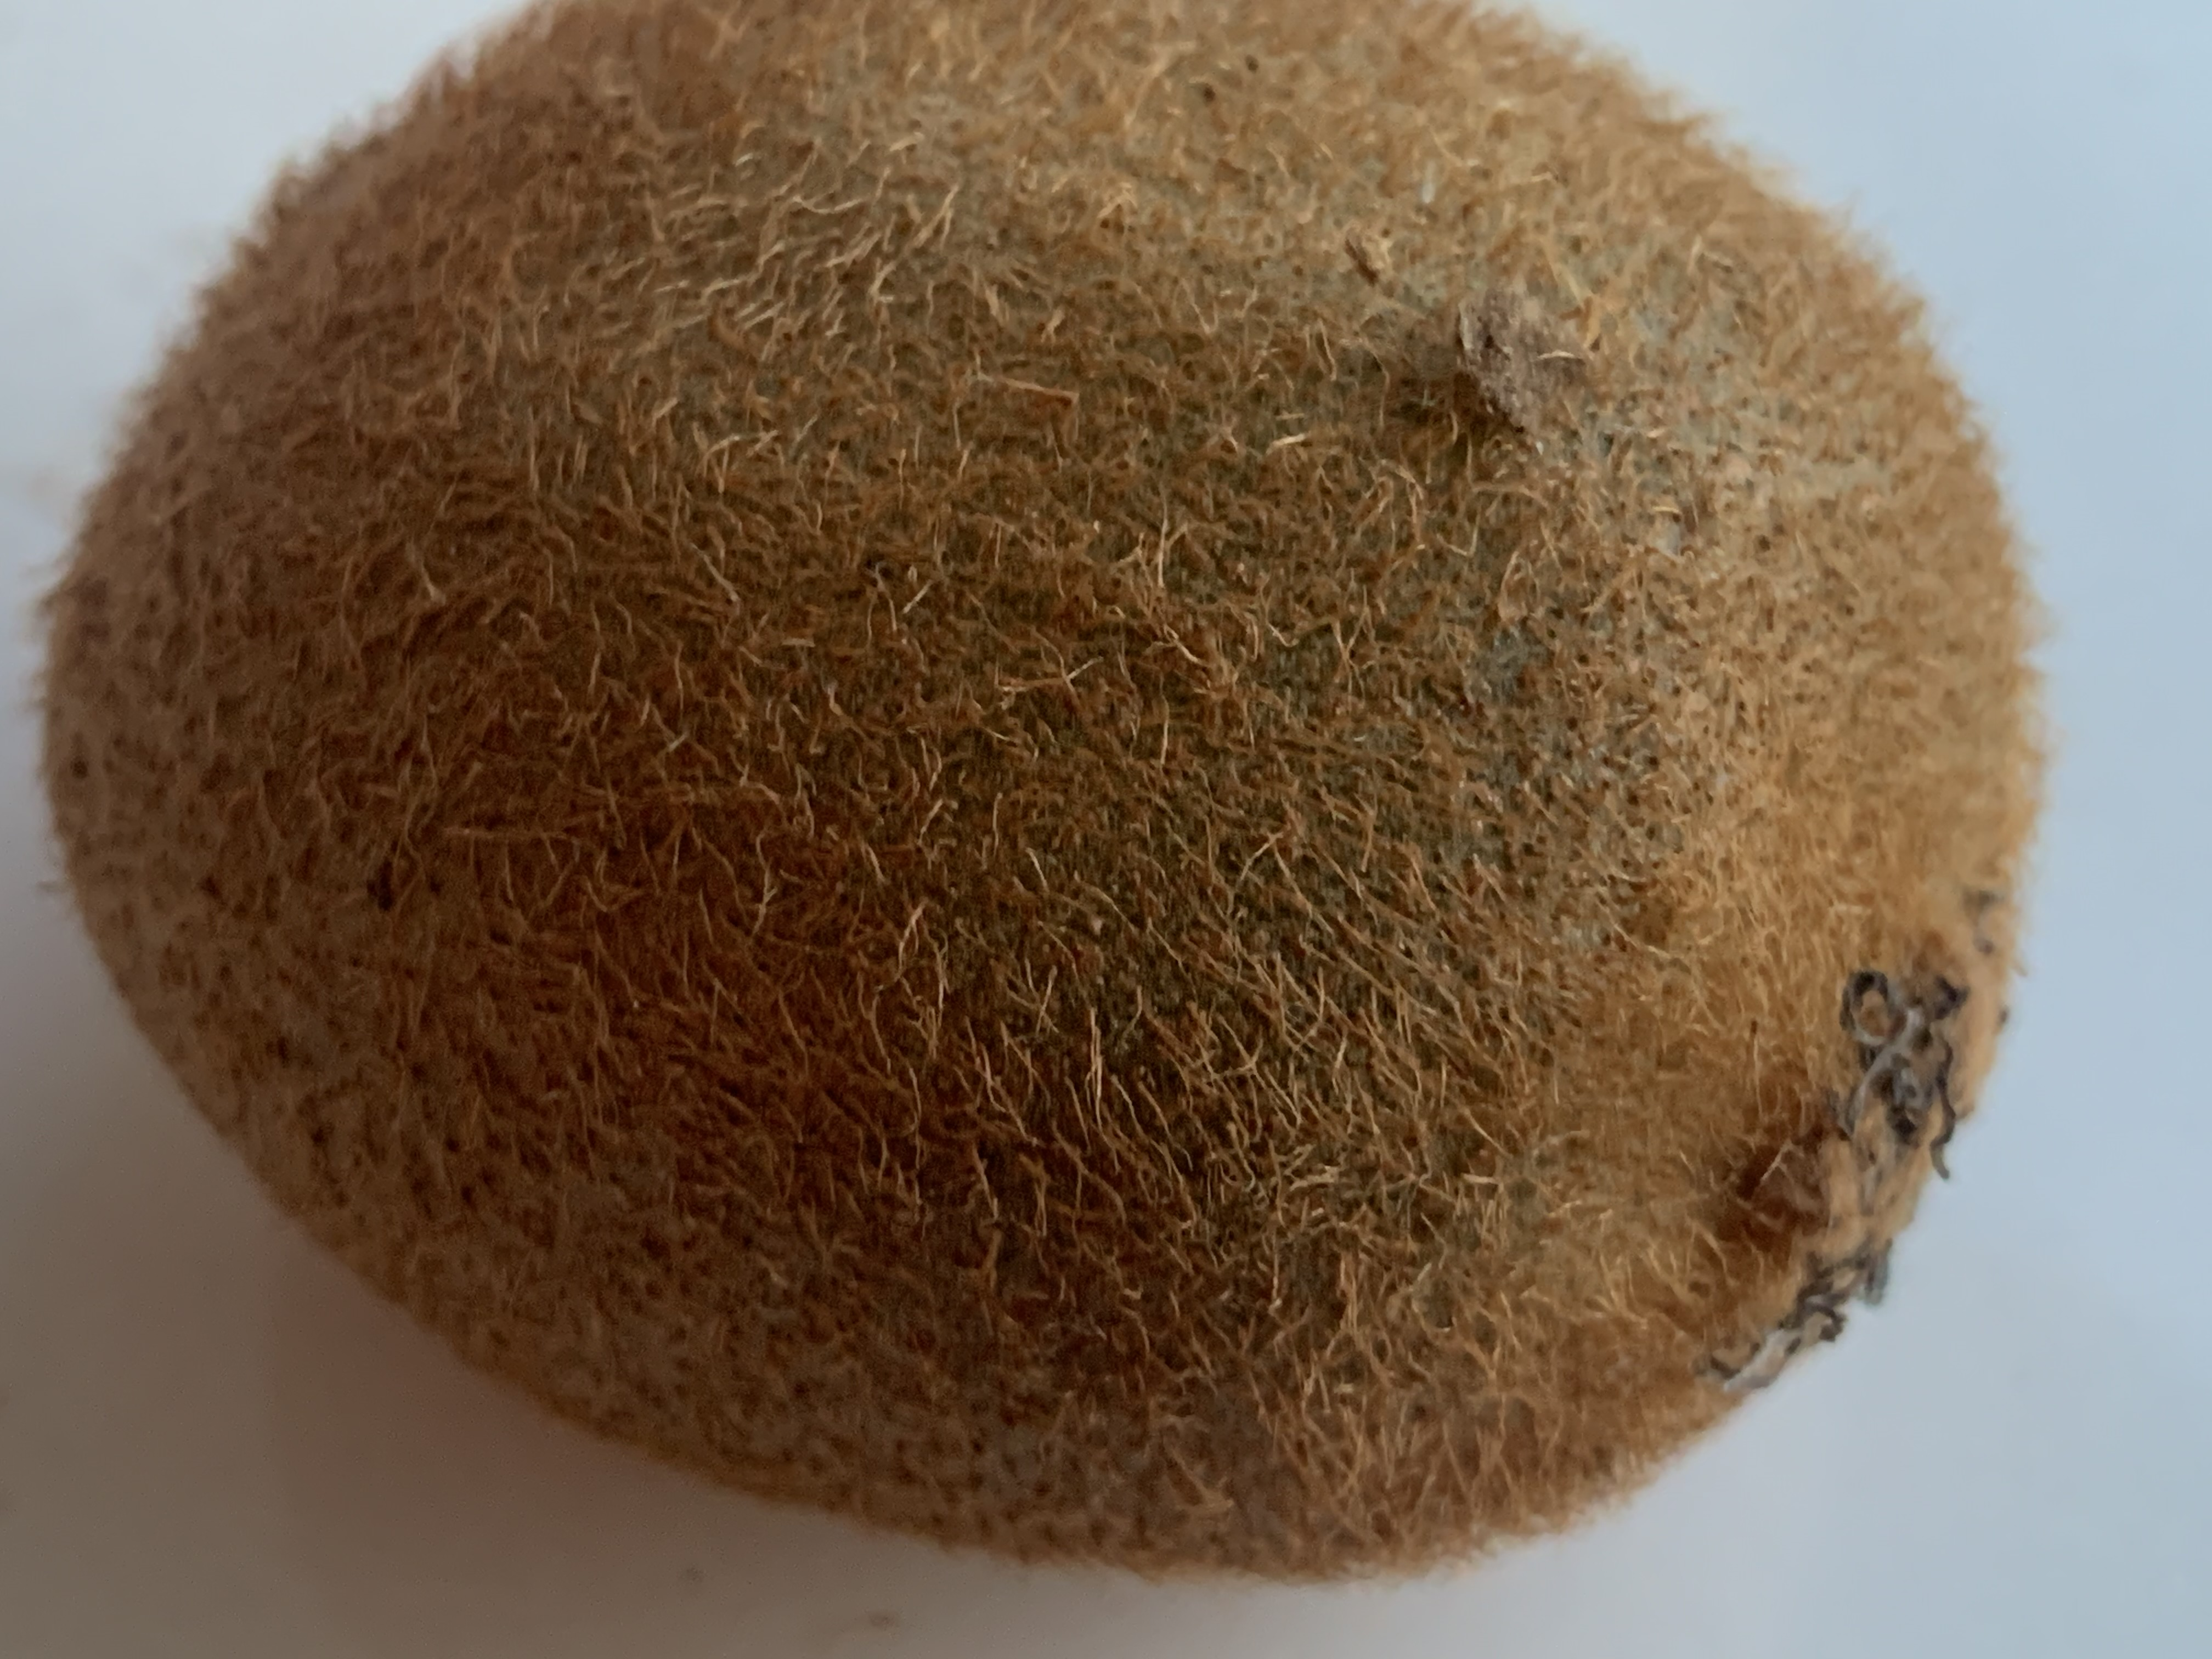kiwi: (45, 9, 2041, 1574), (44, 12, 2024, 1579)
